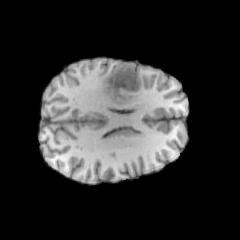glioma: (101, 61, 143, 104)
